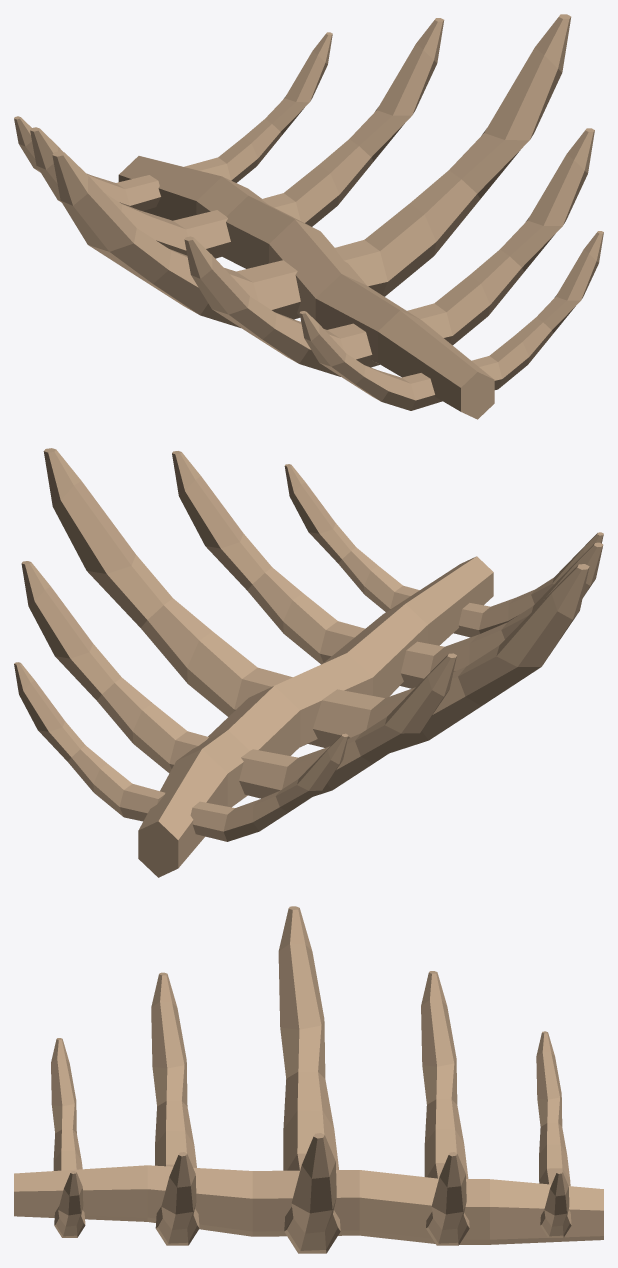
Rendered from big_animal_skeleton_1.fbx.
The picture shows the model from 3 angles, top to bottom: view 1: azimuth 30°, elevation 25°; view 2: azimuth 150°, elevation 25°; view 3: azimuth 270°, elevation 25°; orthographic projection. The views are drawn at different scales.
Visible parts, largest first — view 1: Cylinder.058; view 2: Cylinder.058; view 3: Cylinder.058.
Part boxes in pixels (x1=…): Cylinder.058: x1=14, y1=14, x2=603, y2=419; Cylinder.058: x1=14, y1=448, x2=603, y2=877; Cylinder.058: x1=14, y1=906, x2=603, y2=1253.
Bounding box in the file's own units: 16946 × 7540 × 18183.
